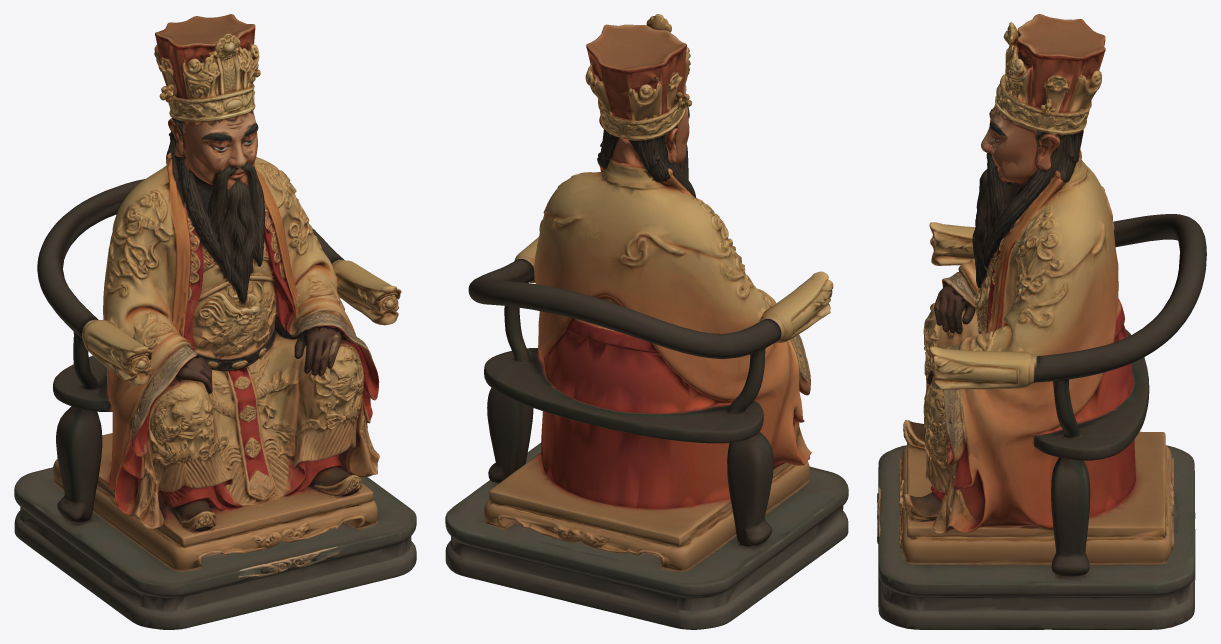
File: P06_golden_deity_statue_3d_model.glb
The picture shows the model from 3 angles, left to right: view 1: azimuth 30°, elevation 25°; view 2: azimuth 150°, elevation 25°; view 3: azimuth 270°, elevation 25°; orthographic projection. The views are drawn at different scales.
Parts seen in each view (by area): view 1: tripo_node_20b6ca1b-8a2b-4610-b279-645223ba704a; view 2: tripo_node_20b6ca1b-8a2b-4610-b279-645223ba704a; view 3: tripo_node_20b6ca1b-8a2b-4610-b279-645223ba704a.
Boxes of the visible parts, x1,y1,x2,y2 form: tripo_node_20b6ca1b-8a2b-4610-b279-645223ba704a: [14, 14, 416, 629]; tripo_node_20b6ca1b-8a2b-4610-b279-645223ba704a: [445, 14, 848, 629]; tripo_node_20b6ca1b-8a2b-4610-b279-645223ba704a: [877, 14, 1206, 629].
Bounding box in the file's own units: 0.5509 × 0.9788 × 0.5448.
Materials: 1 (1 with a texture image).
